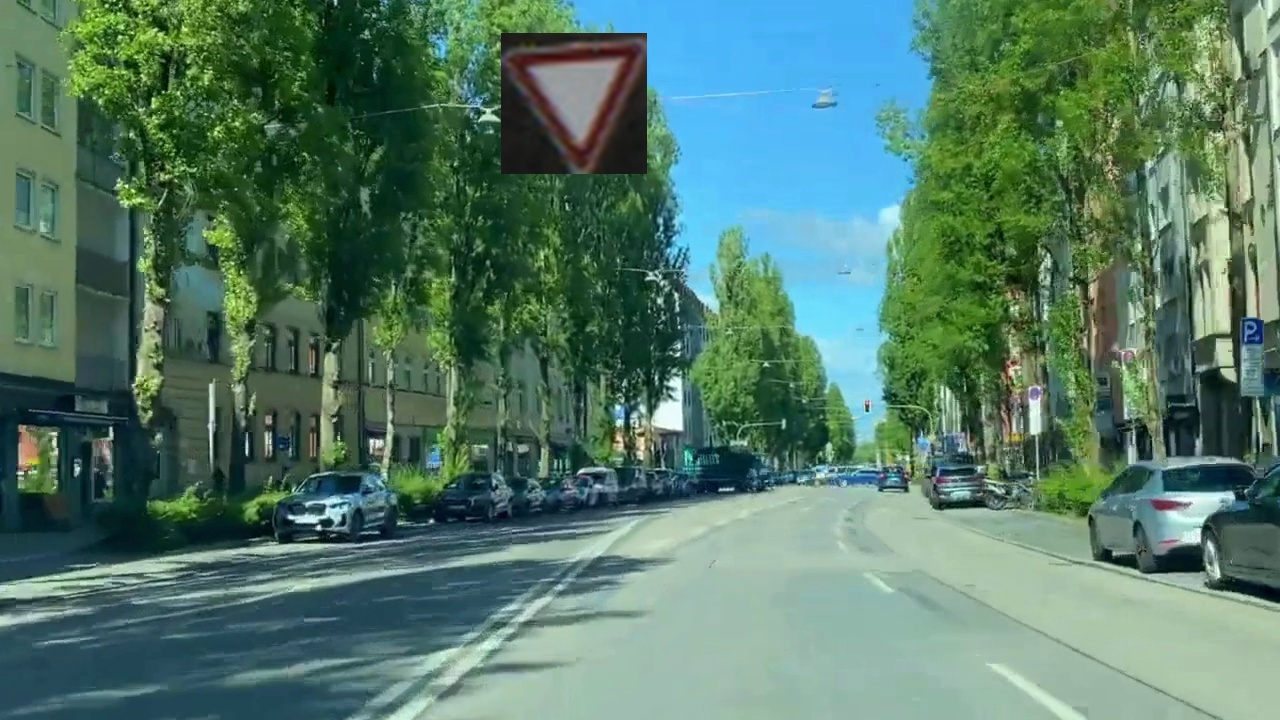Yield: (501, 33, 647, 174)
